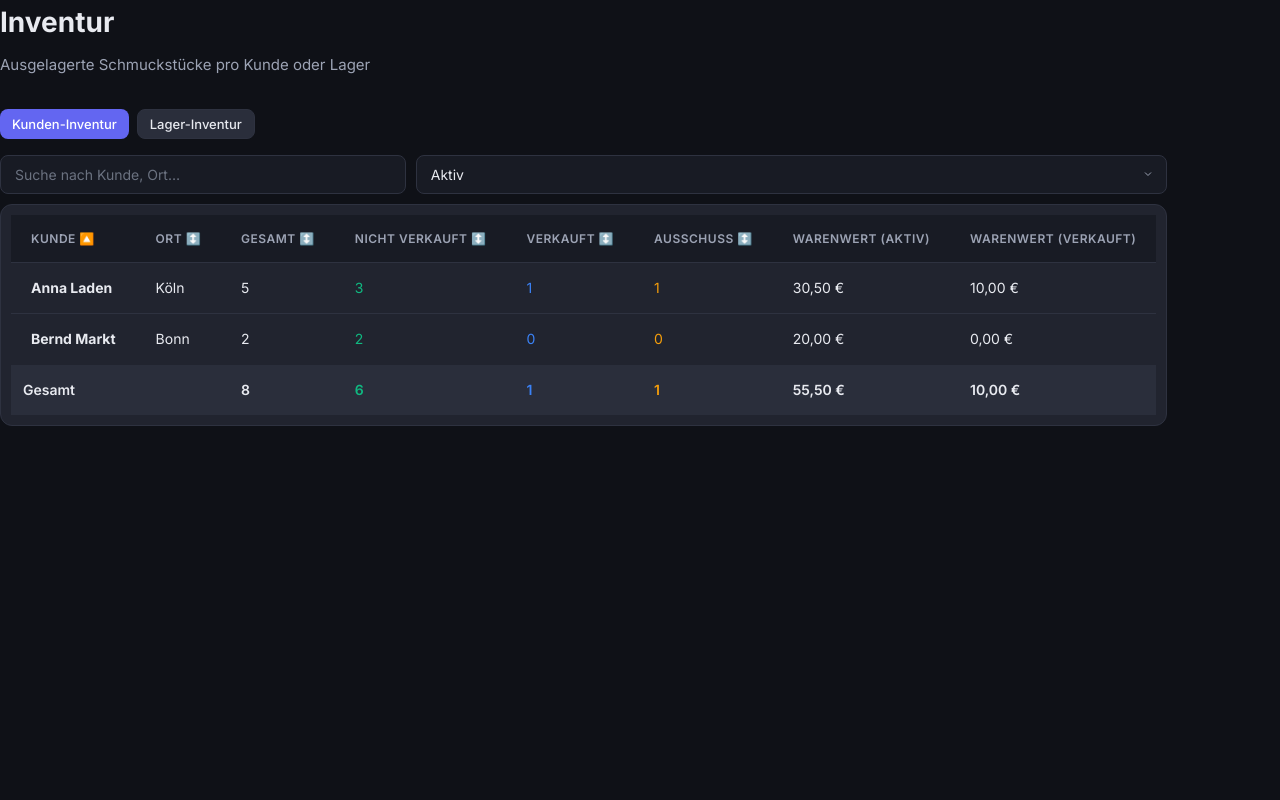
it: Kunden-Detail › wählt Artikel mit "Alle auswählen" ab, wenn schon alle markiert sind
Click the text "Anna Laden" at {"x": 72, "y": 288}, box x1=31 y1=279 x2=112 y2=296
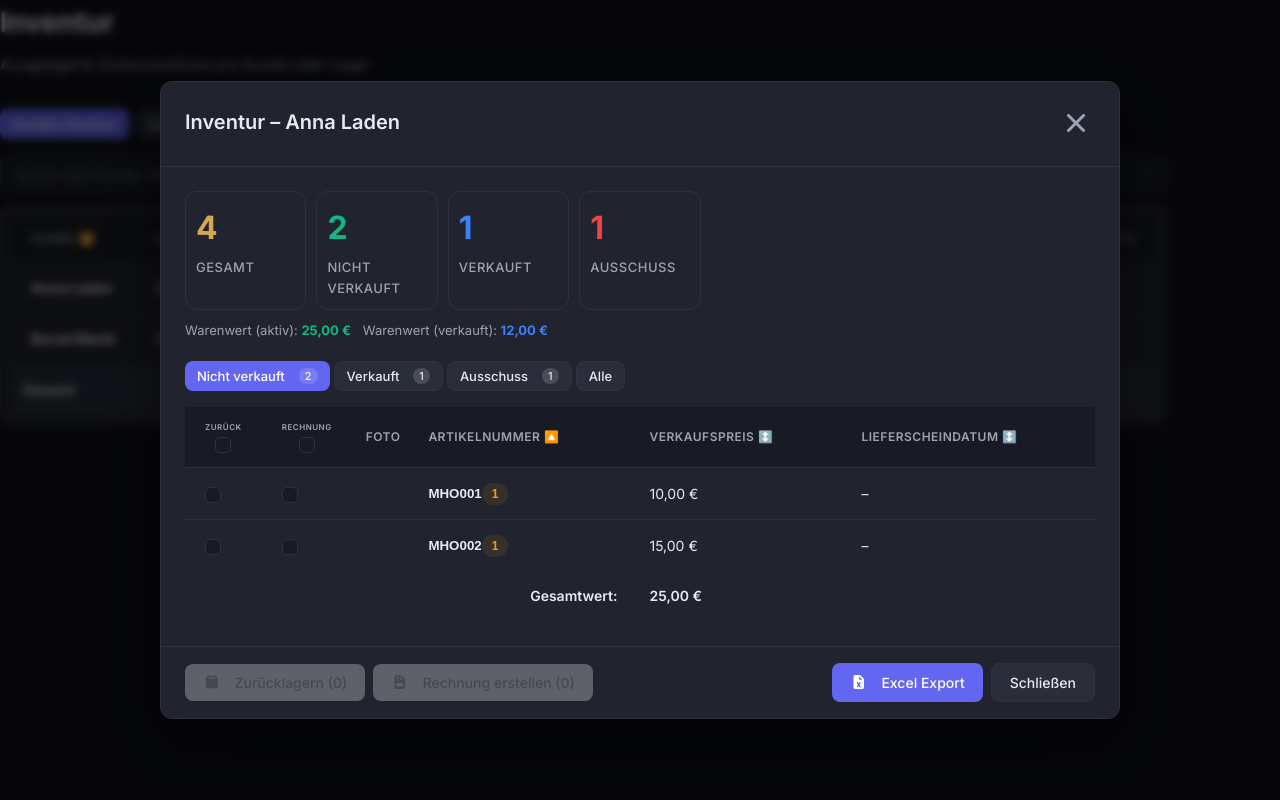
Check: the heading "Inventur – Anna Laden" is shown, box x1=185 y1=106 x2=400 y2=138
Check: the text "MHO001" is shown, box x1=428 y1=486 x2=482 y2=501
Click the checkbox titled "Alle auswählen" at {"x": 223, "y": 445}, box x1=215 y1=437 x2=231 y2=453
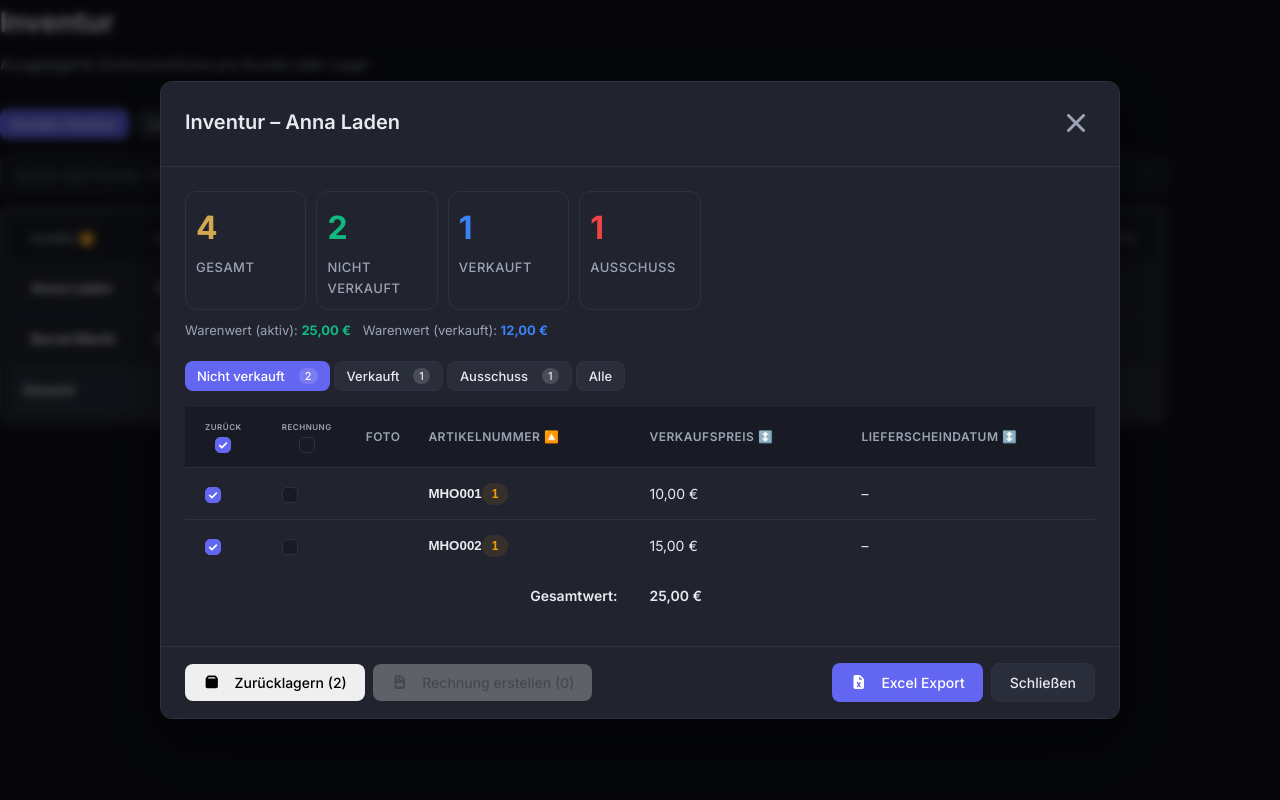
Check: the button "Zurücklagern (2)" is enabled, box x1=185 y1=664 x2=365 y2=701
Click the checkbox titled "Alle abwählen" at {"x": 223, "y": 445}, box x1=215 y1=437 x2=231 y2=453
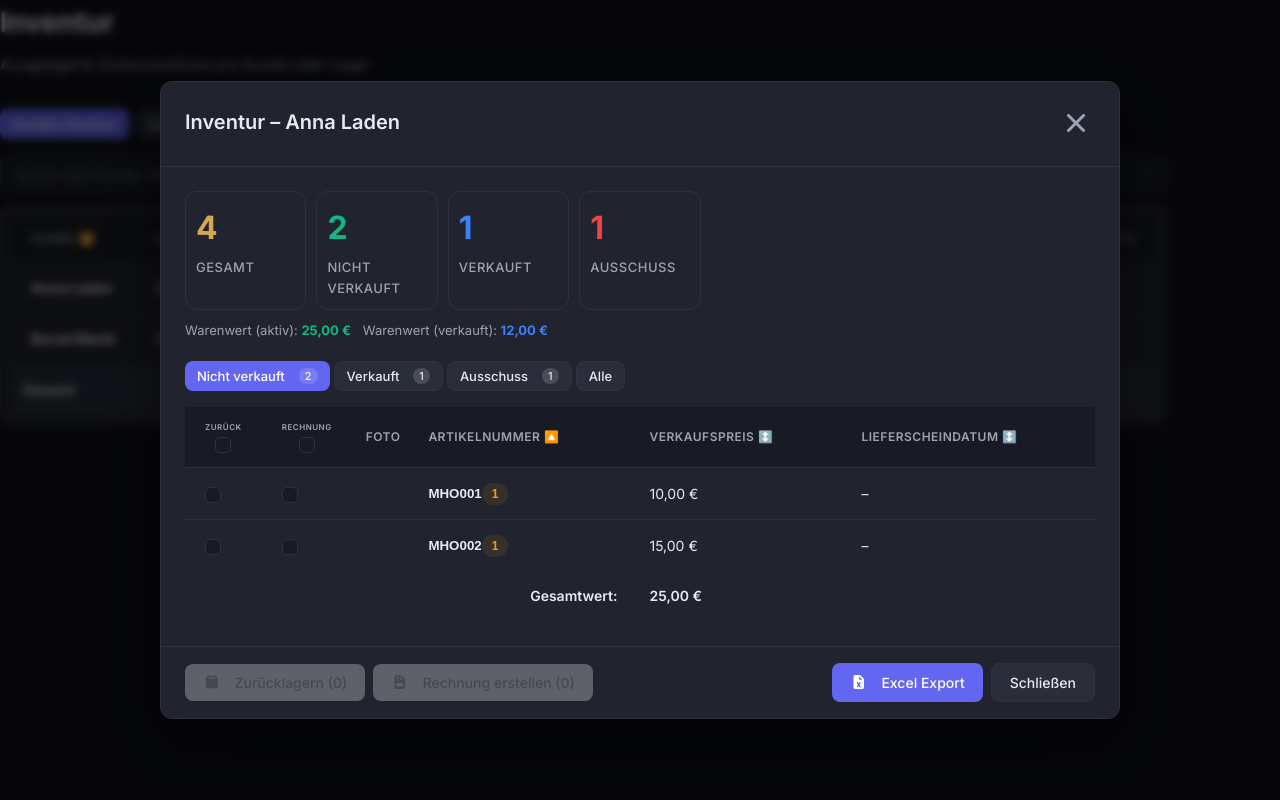
Check: the button "Zurücklagern (0)" is disabled, box x1=185 y1=664 x2=365 y2=701
